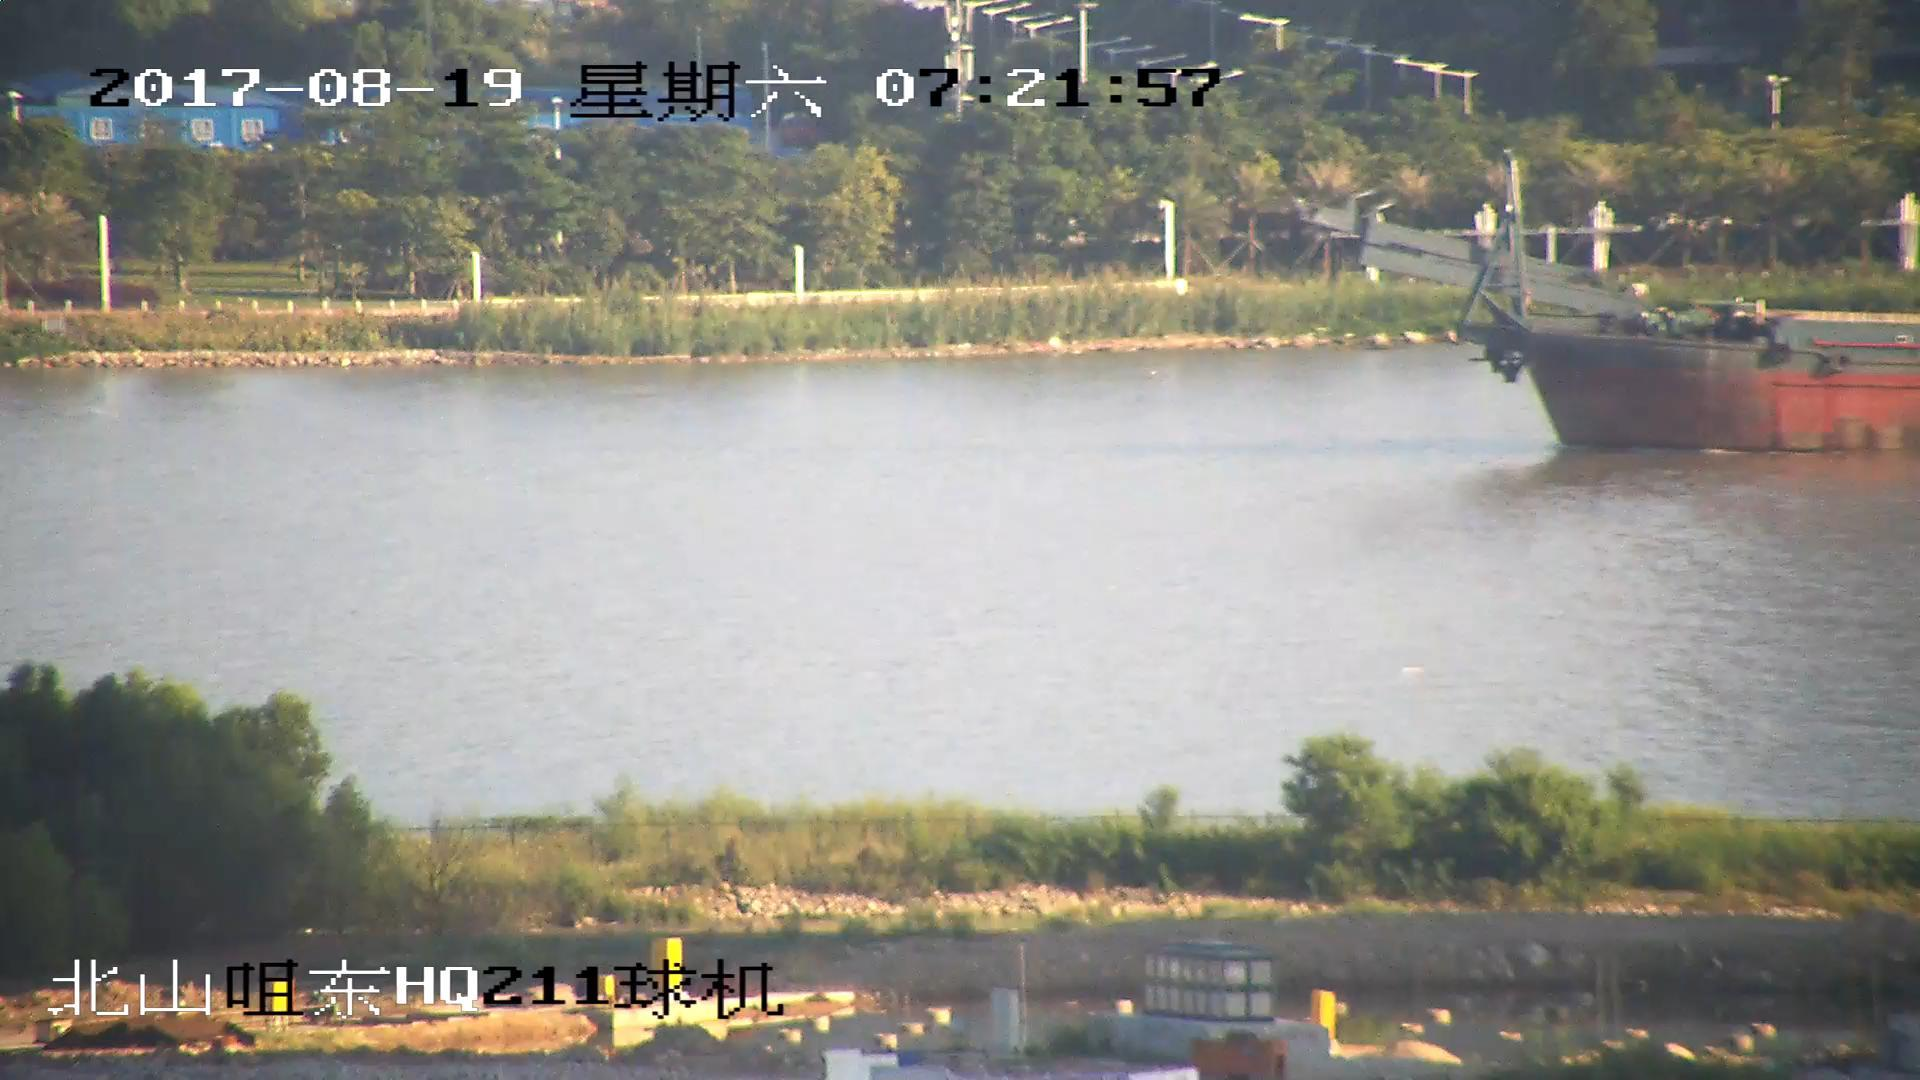Ship: (1305, 186, 1920, 458)
